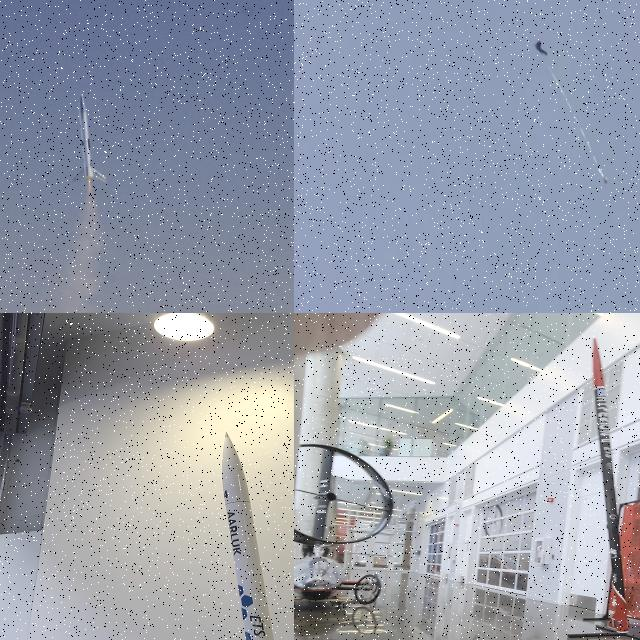Rocket: (221, 432, 275, 640), (594, 338, 631, 632), (70, 94, 110, 184), (598, 168, 608, 184)
